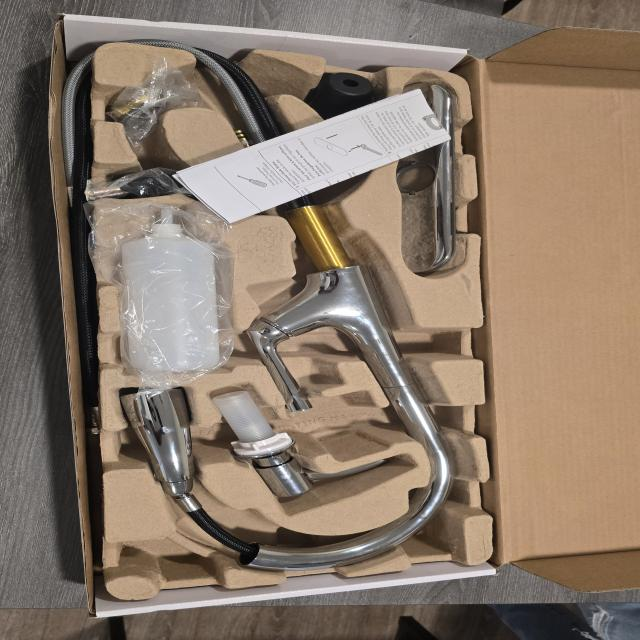1o: (118, 52, 458, 571)
2: (213, 390, 390, 503)
3: (118, 210, 220, 372)
4: (402, 81, 458, 274)
5o: (306, 72, 372, 120)
6: (103, 57, 204, 145)
7o: (89, 168, 210, 202)
8: (174, 87, 454, 224)
